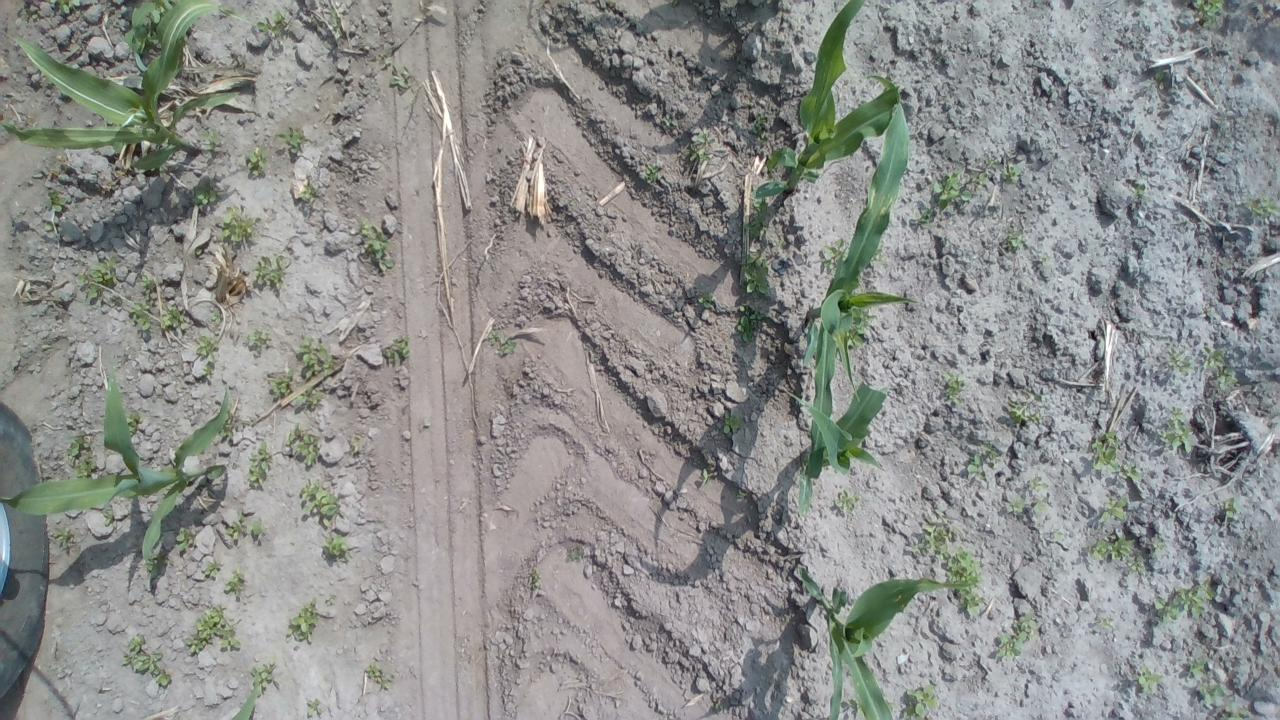Maize: (794, 75, 922, 451), (0, 376, 235, 568), (0, 3, 242, 170), (752, 0, 900, 200), (796, 564, 971, 720), (780, 382, 886, 514), (222, 677, 258, 720)
Weeds: (120, 633, 172, 687), (946, 547, 986, 616), (183, 607, 240, 654), (1154, 581, 1216, 624), (352, 213, 394, 272), (934, 168, 986, 210), (299, 478, 341, 527), (996, 614, 1040, 658), (1156, 406, 1196, 454), (1186, 656, 1224, 705), (295, 335, 336, 377), (78, 256, 118, 299), (218, 206, 258, 245), (912, 523, 951, 561), (286, 423, 320, 466), (286, 598, 319, 642), (67, 432, 96, 480), (904, 682, 939, 720), (252, 252, 286, 290), (744, 190, 769, 241), (966, 444, 1000, 480), (248, 438, 272, 488), (1087, 535, 1135, 560), (742, 250, 769, 294), (736, 302, 764, 344), (1091, 432, 1120, 472), (682, 127, 714, 162), (985, 157, 1023, 186), (1192, 0, 1224, 31), (254, 9, 288, 38), (273, 122, 304, 152), (248, 662, 274, 697), (194, 178, 224, 206), (162, 301, 190, 331), (823, 238, 849, 270), (1007, 400, 1041, 424), (1137, 664, 1164, 694), (244, 146, 270, 177), (135, 24, 161, 54), (270, 367, 294, 399), (321, 534, 353, 558), (488, 330, 517, 356), (1248, 195, 1280, 218), (1101, 496, 1127, 524), (384, 338, 411, 364), (129, 301, 152, 331), (366, 662, 392, 688), (224, 511, 247, 540), (944, 371, 964, 404), (195, 335, 219, 362), (834, 490, 862, 513), (140, 1, 168, 24), (1166, 352, 1194, 374), (296, 384, 321, 408), (246, 326, 273, 348), (223, 568, 244, 594), (1143, 70, 1169, 90), (52, 526, 72, 552), (1202, 346, 1224, 369), (1216, 368, 1239, 390), (391, 63, 409, 91), (750, 111, 770, 135), (126, 410, 143, 438), (176, 526, 194, 552), (1222, 702, 1248, 720), (198, 127, 218, 150), (48, 190, 66, 215), (721, 414, 743, 434), (1006, 230, 1026, 252), (640, 164, 661, 184), (848, 697, 866, 719), (144, 556, 162, 577), (1220, 497, 1238, 518), (48, 0, 74, 14), (846, 328, 864, 348), (202, 560, 222, 578), (218, 417, 234, 439), (328, 8, 342, 33), (1008, 494, 1026, 513), (1124, 464, 1142, 482), (698, 290, 716, 308), (246, 519, 264, 536), (1033, 496, 1051, 513), (1028, 477, 1048, 492), (307, 698, 322, 717), (860, 311, 877, 327), (299, 183, 314, 201), (530, 569, 544, 588), (871, 238, 882, 262), (111, 359, 122, 383), (567, 546, 583, 561), (920, 209, 936, 224), (103, 507, 115, 526), (1128, 560, 1146, 572), (201, 365, 215, 380), (142, 275, 156, 290), (1099, 618, 1113, 630), (44, 222, 58, 234), (1132, 186, 1146, 198), (324, 594, 336, 606), (1152, 542, 1164, 554), (210, 308, 220, 322), (190, 247, 202, 258), (1038, 254, 1048, 266), (702, 469, 712, 481), (735, 488, 746, 498), (352, 441, 361, 452), (710, 702, 721, 710), (887, 702, 895, 712), (1055, 532, 1064, 540), (776, 239, 786, 246)
